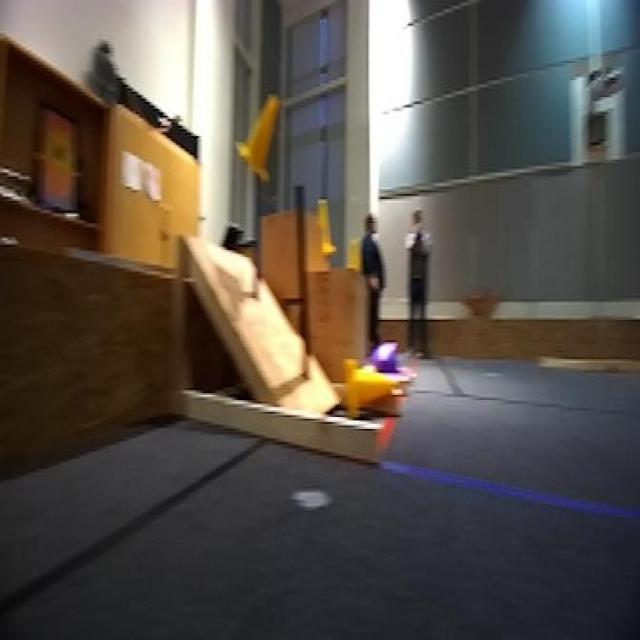frc_cone: (237, 85, 286, 182), (341, 354, 395, 420), (309, 192, 338, 260), (344, 233, 366, 276)
frc_cube: (372, 344, 402, 381)
